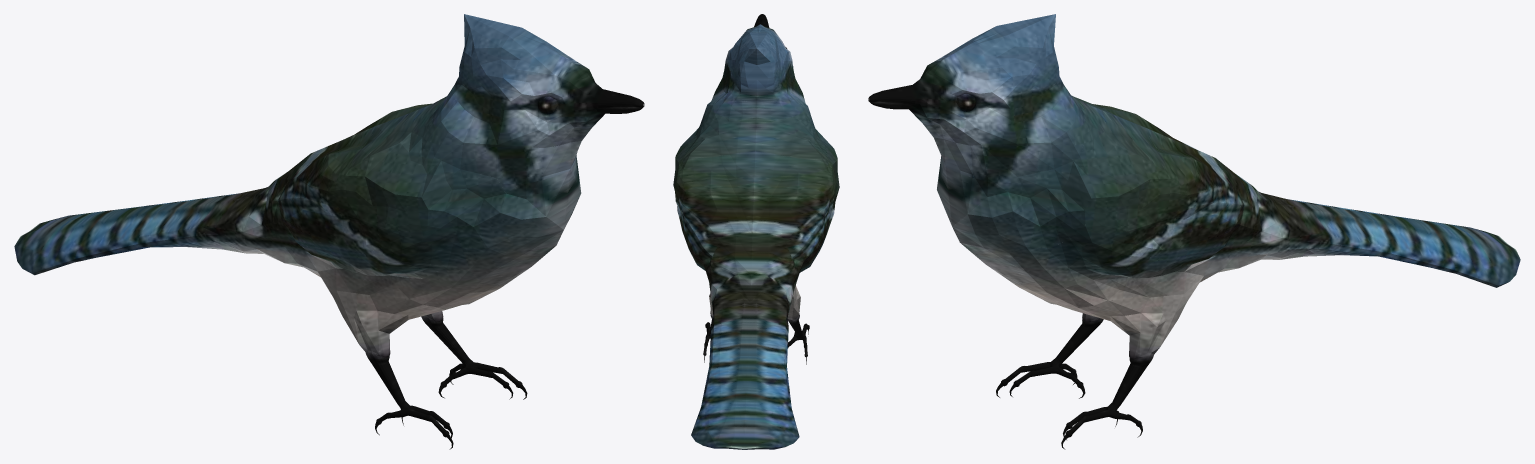
The model's file is IJIXE2DOJAYDIAWV6QEJ0VDQB.fbx.
The picture shows the model from 3 angles, left to right: view 1: azimuth 30°, elevation 25°; view 2: azimuth 150°, elevation 25°; view 3: azimuth 270°, elevation 25°; orthographic projection. The views are drawn at different scales.
Visible parts, largest first — view 1: Object_chest.jpg; view 2: Object_chest.jpg; view 3: Object_chest.jpg.
Part boxes in pixels (box(x1,y1,x2,y2)): Object_chest.jpg: box(14, 14, 644, 449); Object_chest.jpg: box(673, 14, 839, 449); Object_chest.jpg: box(868, 14, 1520, 449).
Bounding box in the file's own units: 1.48 × 1.73 × 2.5.
